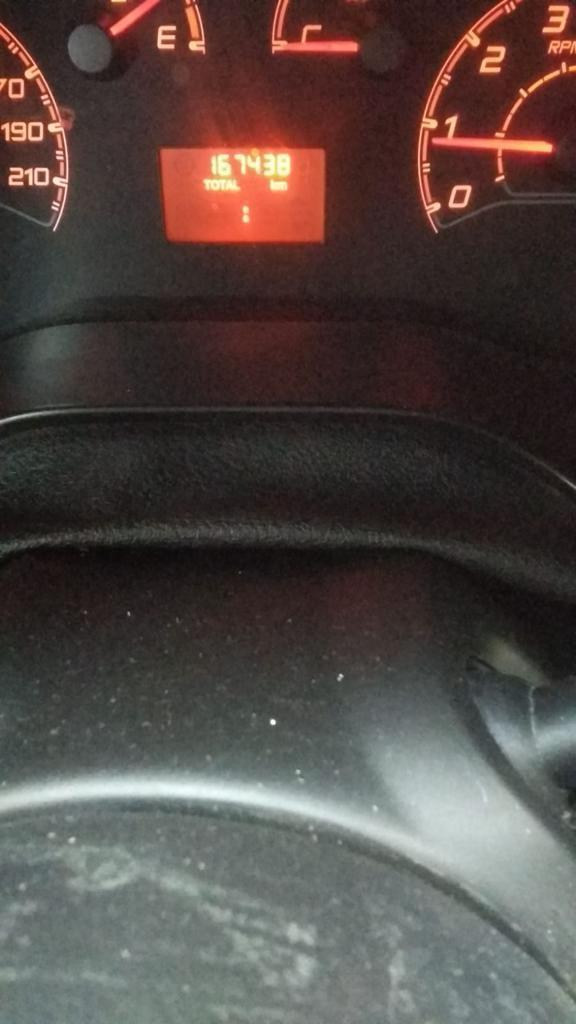1: (208, 154, 217, 176)
3: (262, 153, 275, 176)
4: (246, 153, 261, 175)
6: (217, 153, 232, 176)
7: (232, 153, 246, 175)
8: (275, 153, 291, 176)
X: (241, 205, 250, 223), (200, 177, 210, 191), (277, 180, 288, 191), (210, 178, 219, 191), (268, 179, 277, 191), (232, 178, 240, 191), (225, 178, 232, 191), (219, 178, 225, 191)
odometer: (156, 145, 328, 245)
